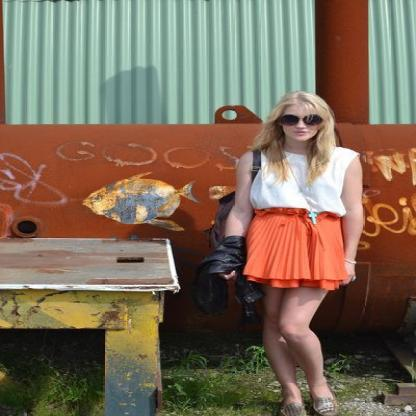shirt: (249, 146, 358, 224)
shoe: (287, 374, 336, 416)
skirt: (243, 207, 355, 289)
sunglass: (302, 114, 323, 126)
